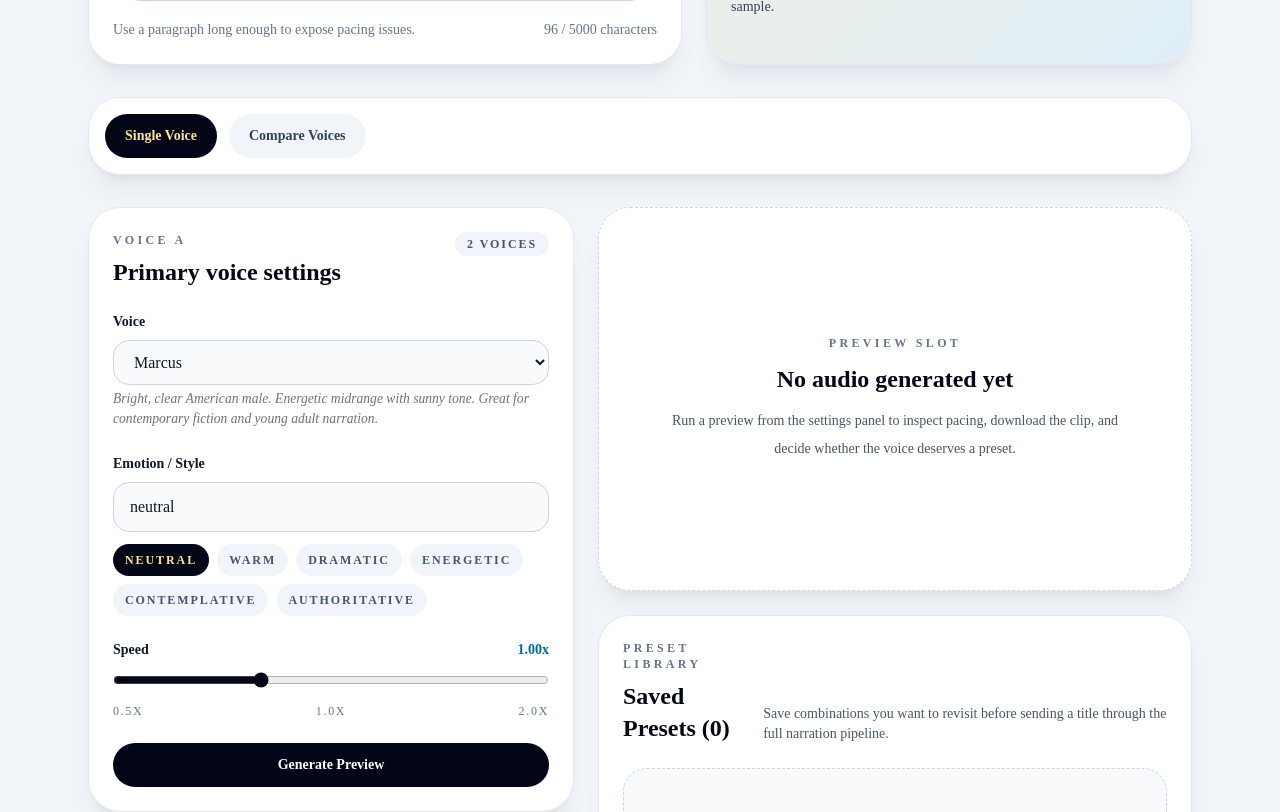
Test: VoiceLab page › shows the selected voice description below the voice selector
(page scrolled)
Select "Marcus" in the dropdown named "Primary voice" at (331, 362), box x1=113 y1=340 x2=549 y2=385
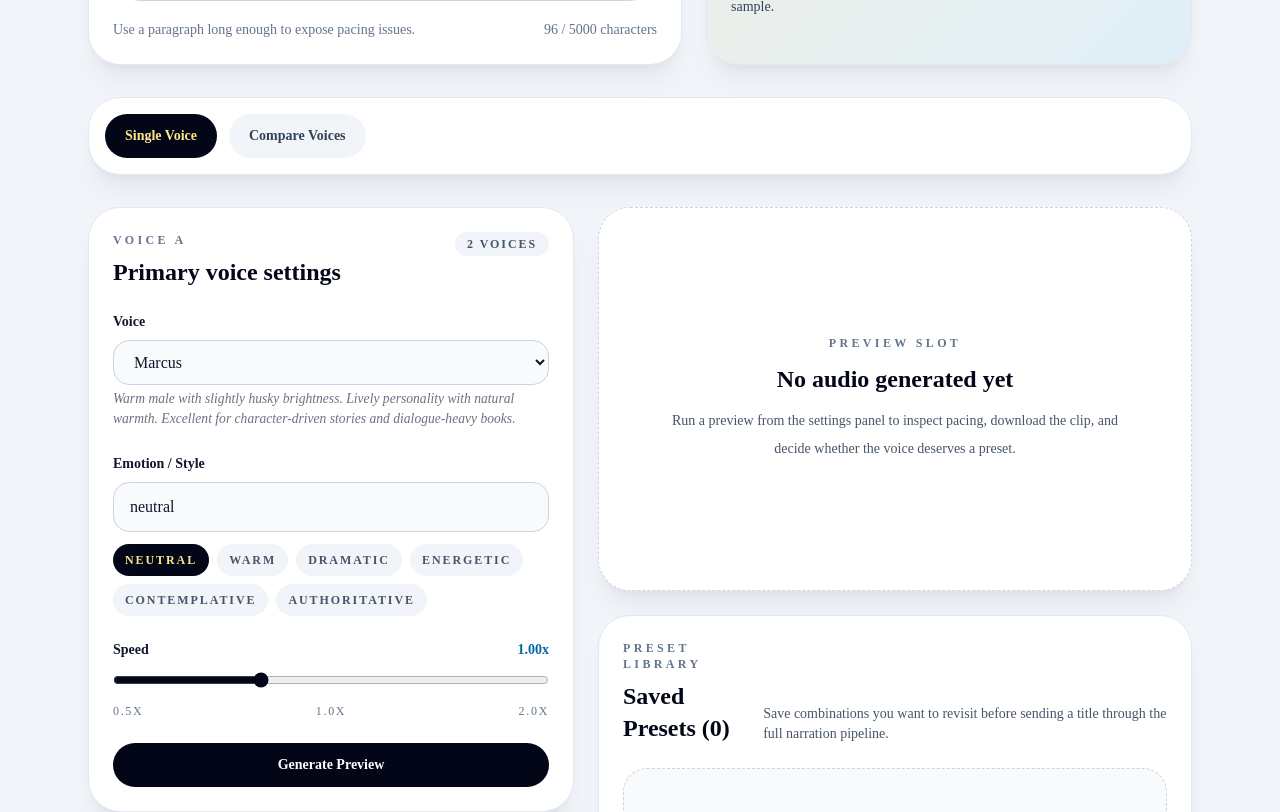
Expected: the text "Warm male with slightly husky brightness. Lively personality with natural warmth. Excellent for character-driven stories and dialogue-heavy books." is shown, x1=113 y1=391 x2=516 y2=426
